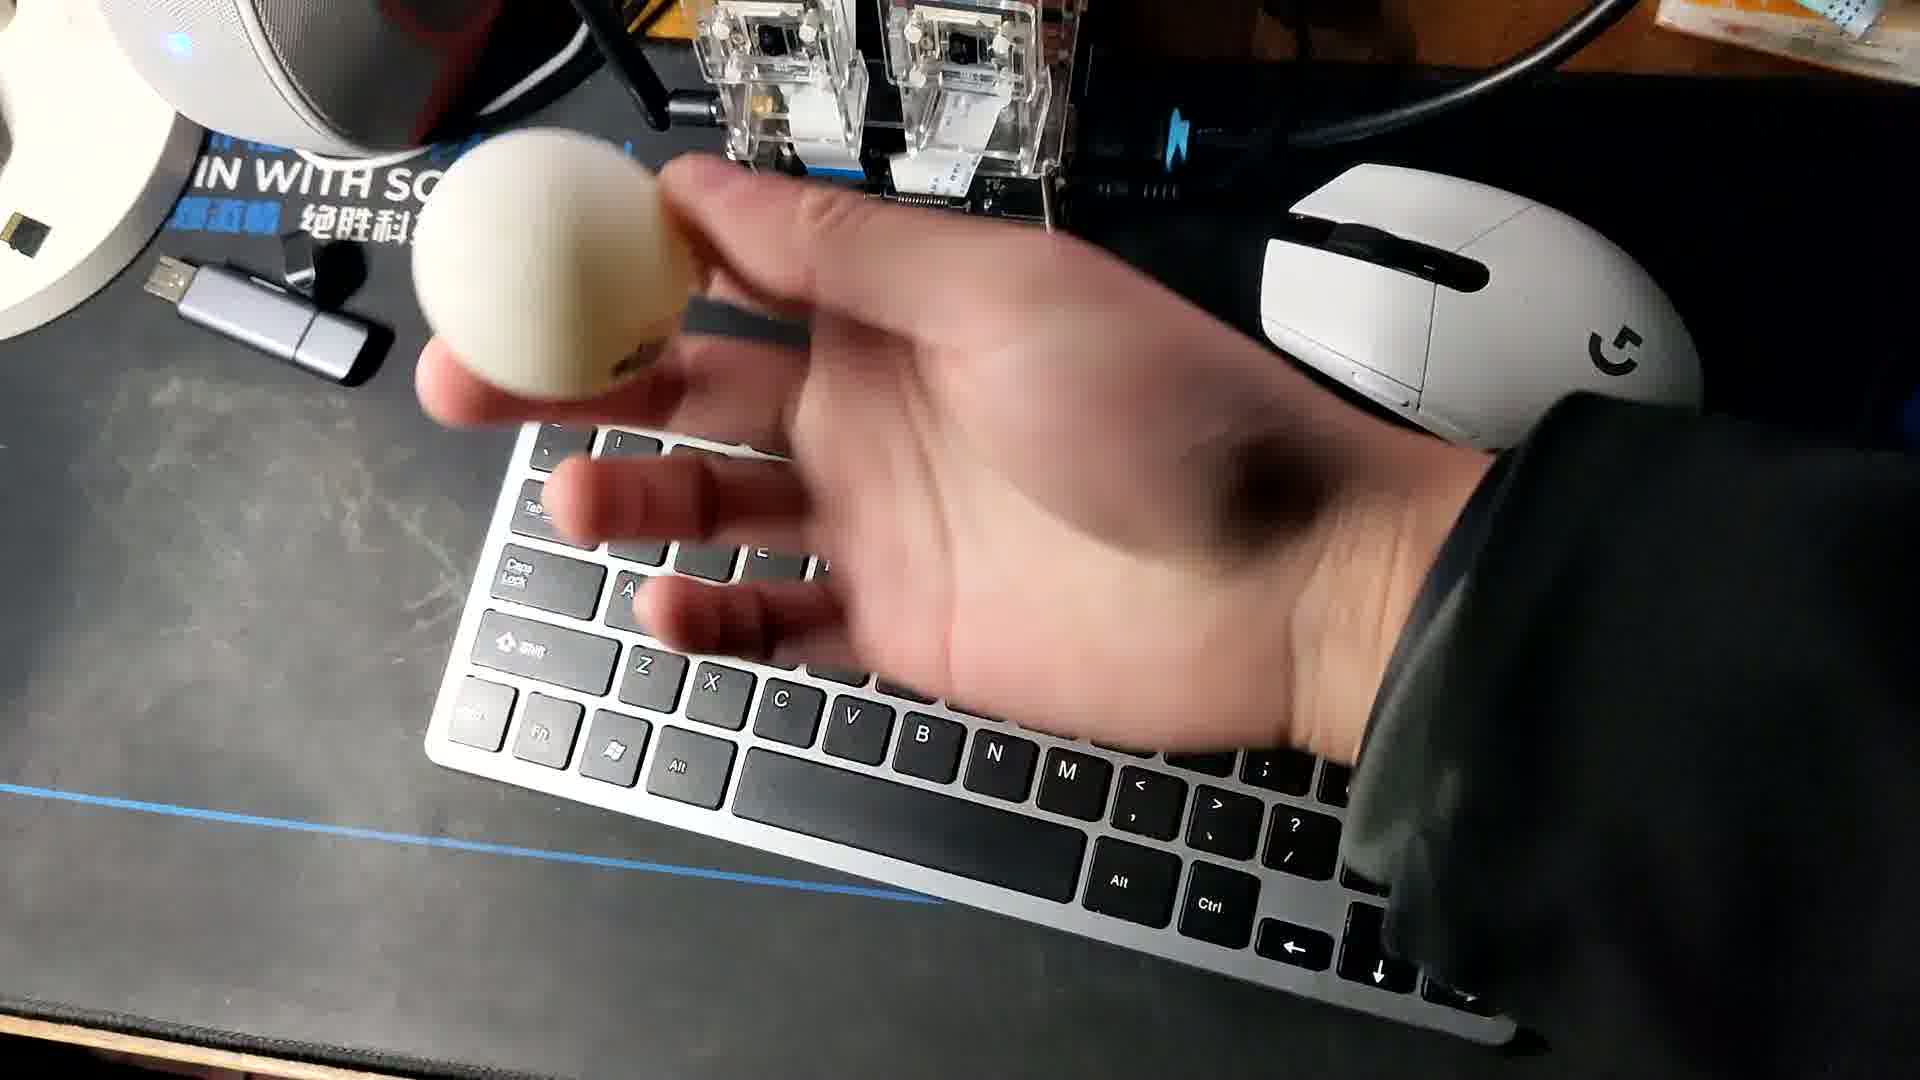Ball: (409, 120, 688, 396)
